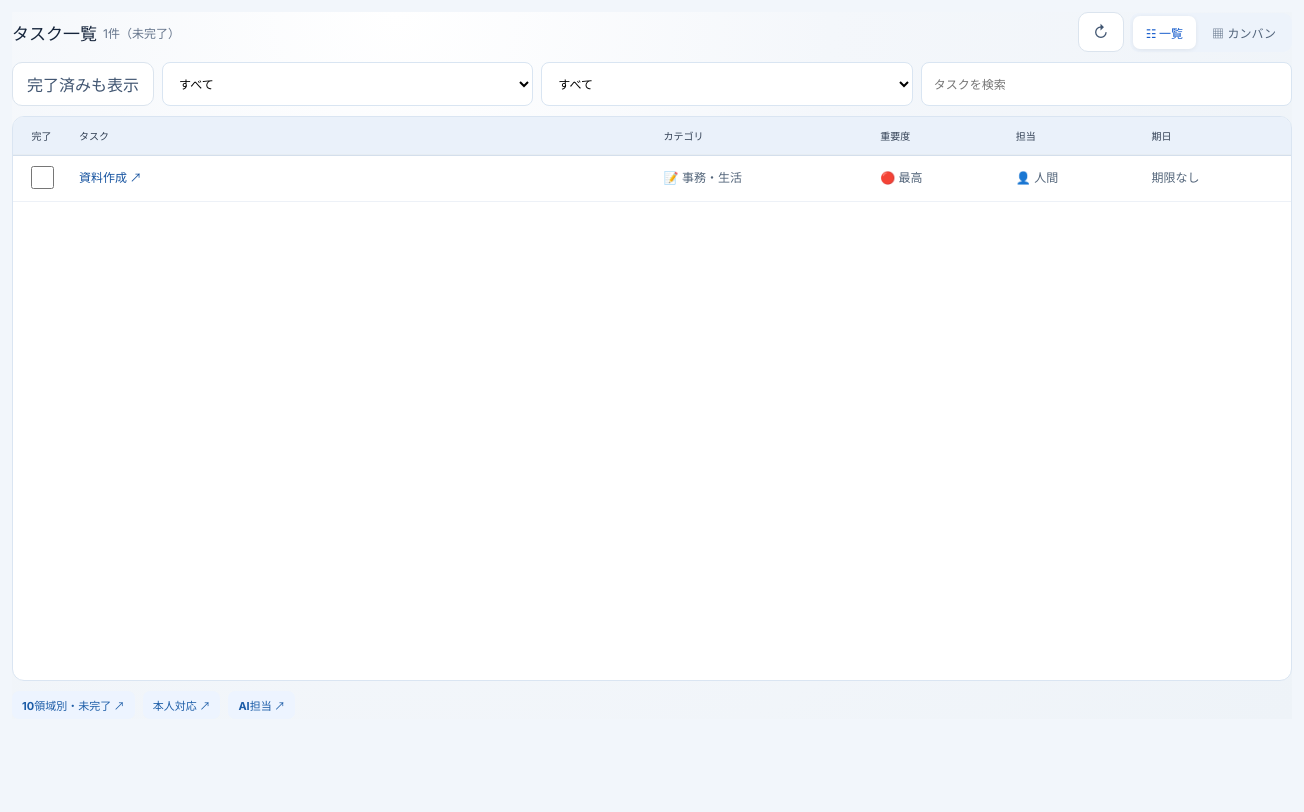
Test case: Notionが完了保存を返した後のみ消え、完了済み表示で再表示される
Step 1. Click the checkbox named "資料作成を完了" → (42, 178), box x1=30 y1=166 x2=54 y2=189
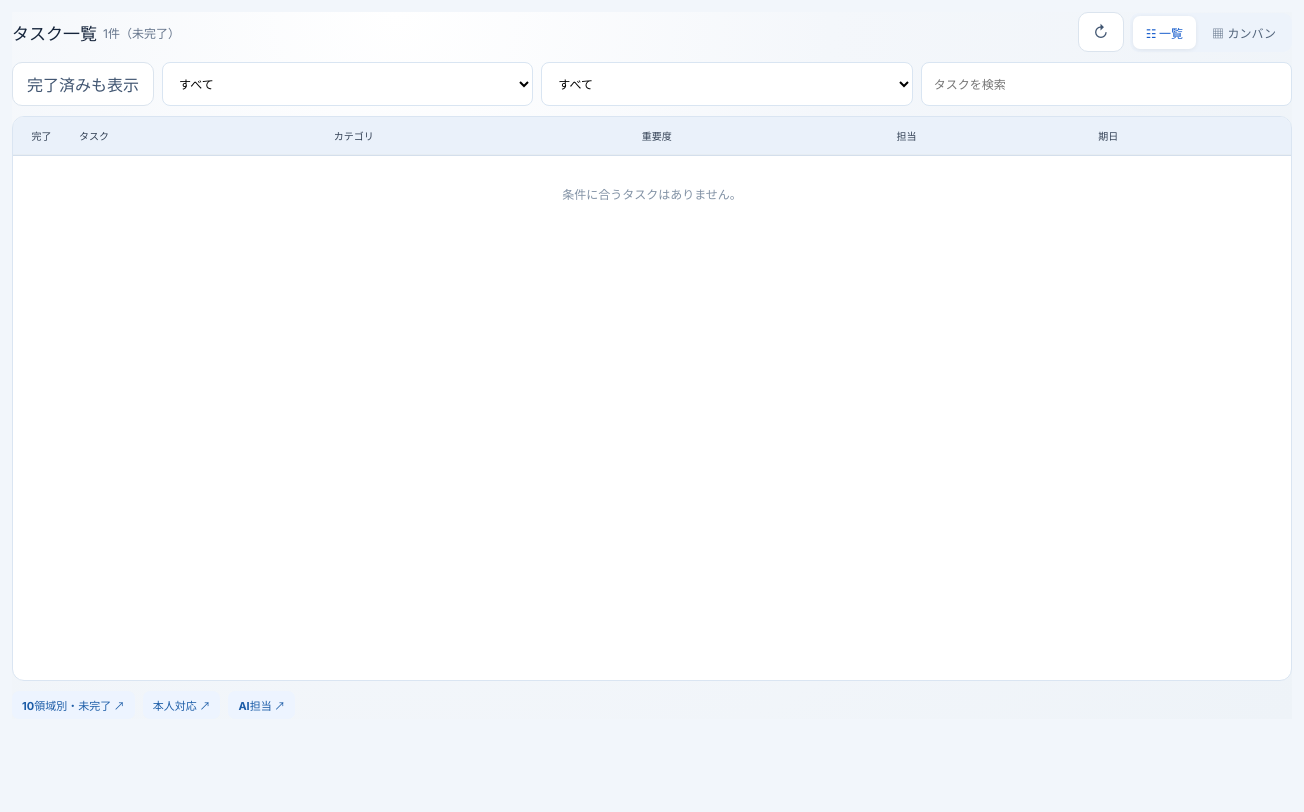
Expected: the checkbox labelled "資料作成を完了" is gone
Step 2. Click the button "完了済みも表示" → (83, 84), box x1=12 y1=62 x2=154 y2=106
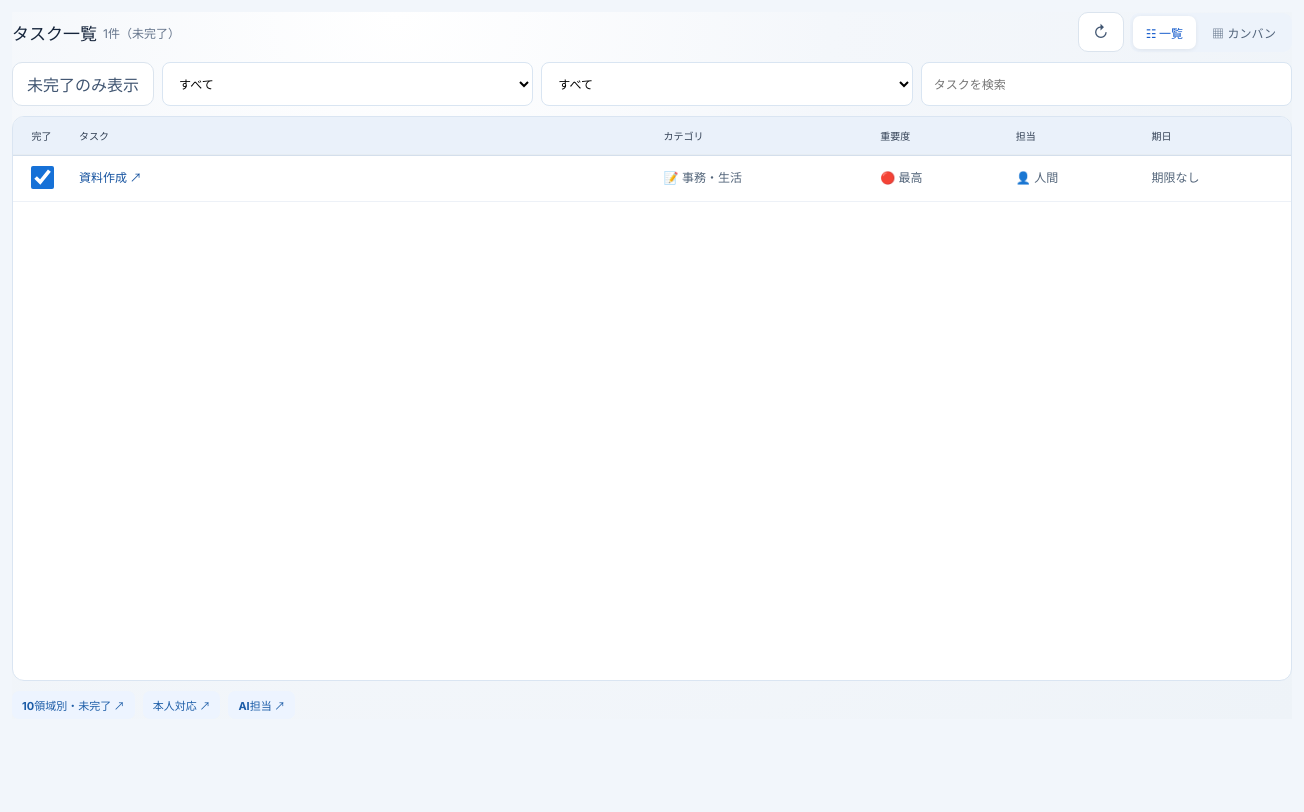
Expected: the checkbox named "資料作成を完了" is checked, x1=30 y1=166 x2=54 y2=189
